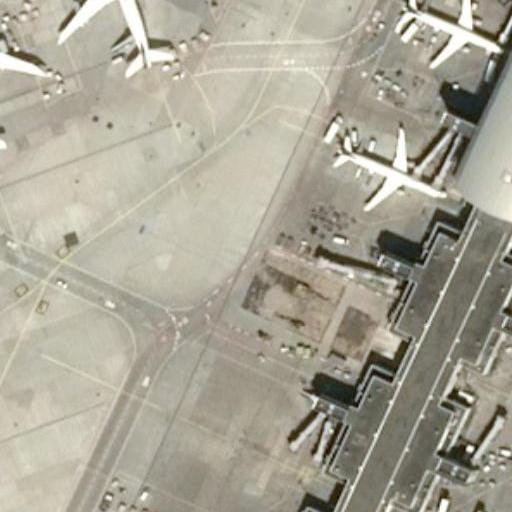Aircraft: (330, 108, 447, 212), (53, 0, 203, 81), (52, 0, 203, 76), (328, 120, 446, 212), (395, 0, 504, 76), (0, 0, 46, 167), (391, 0, 498, 71), (0, 0, 38, 166), (405, 500, 511, 512), (406, 503, 512, 512)
